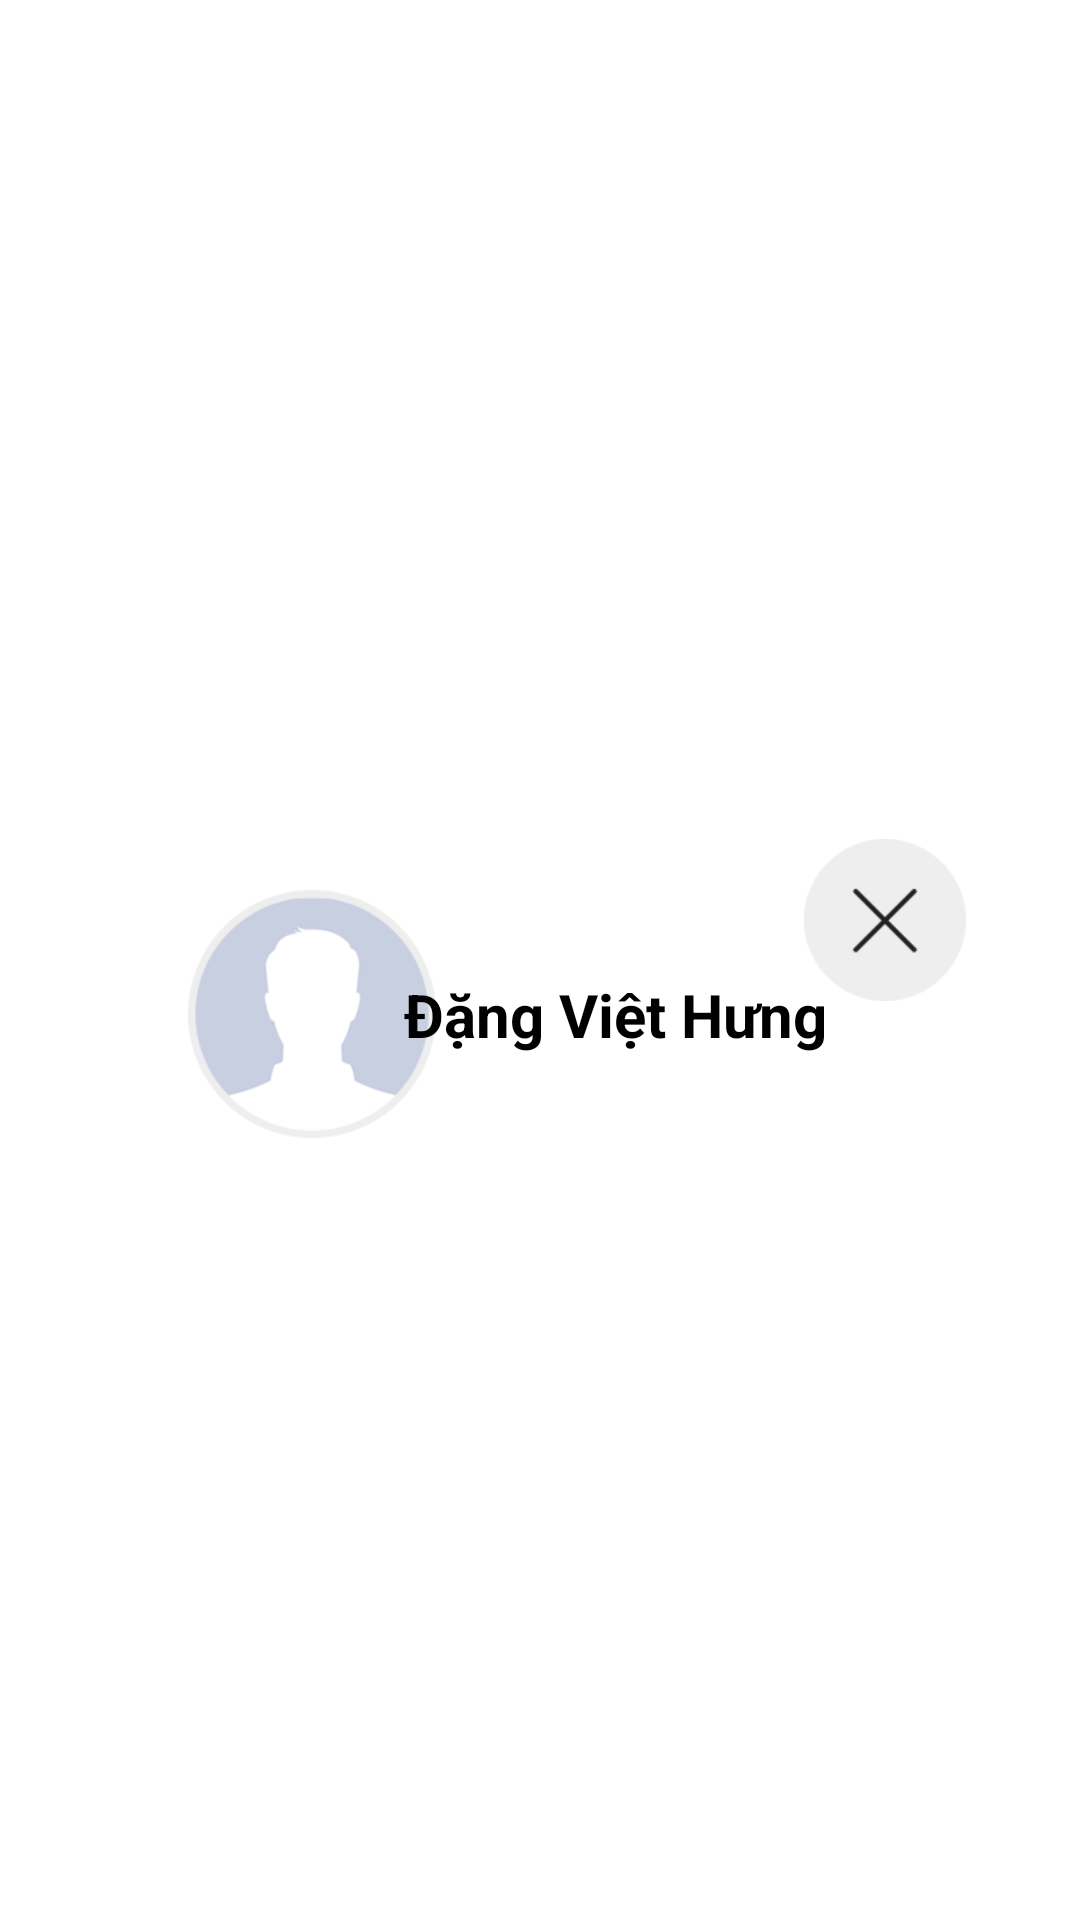

Icons on this 1080×1920 Android screen, each with its box as (x1, y1, x2, y2):
avt: (195, 897, 436, 1095)
exit: (804, 839, 966, 1001)
